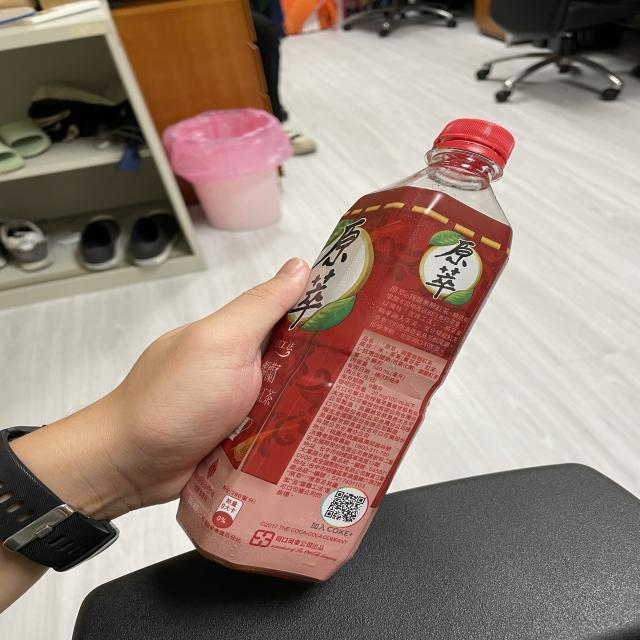YuanTsui_BlackTea: (135, 81, 585, 609)
